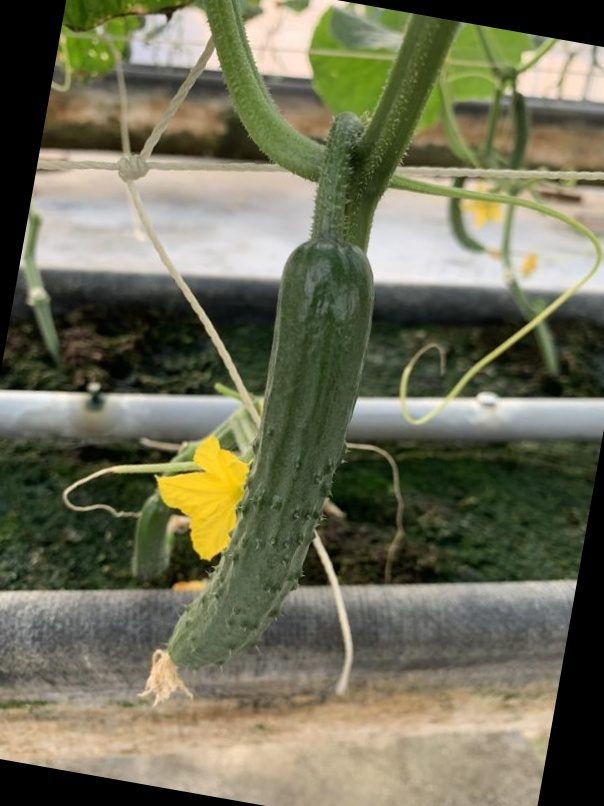mature: (156, 230, 385, 704)
